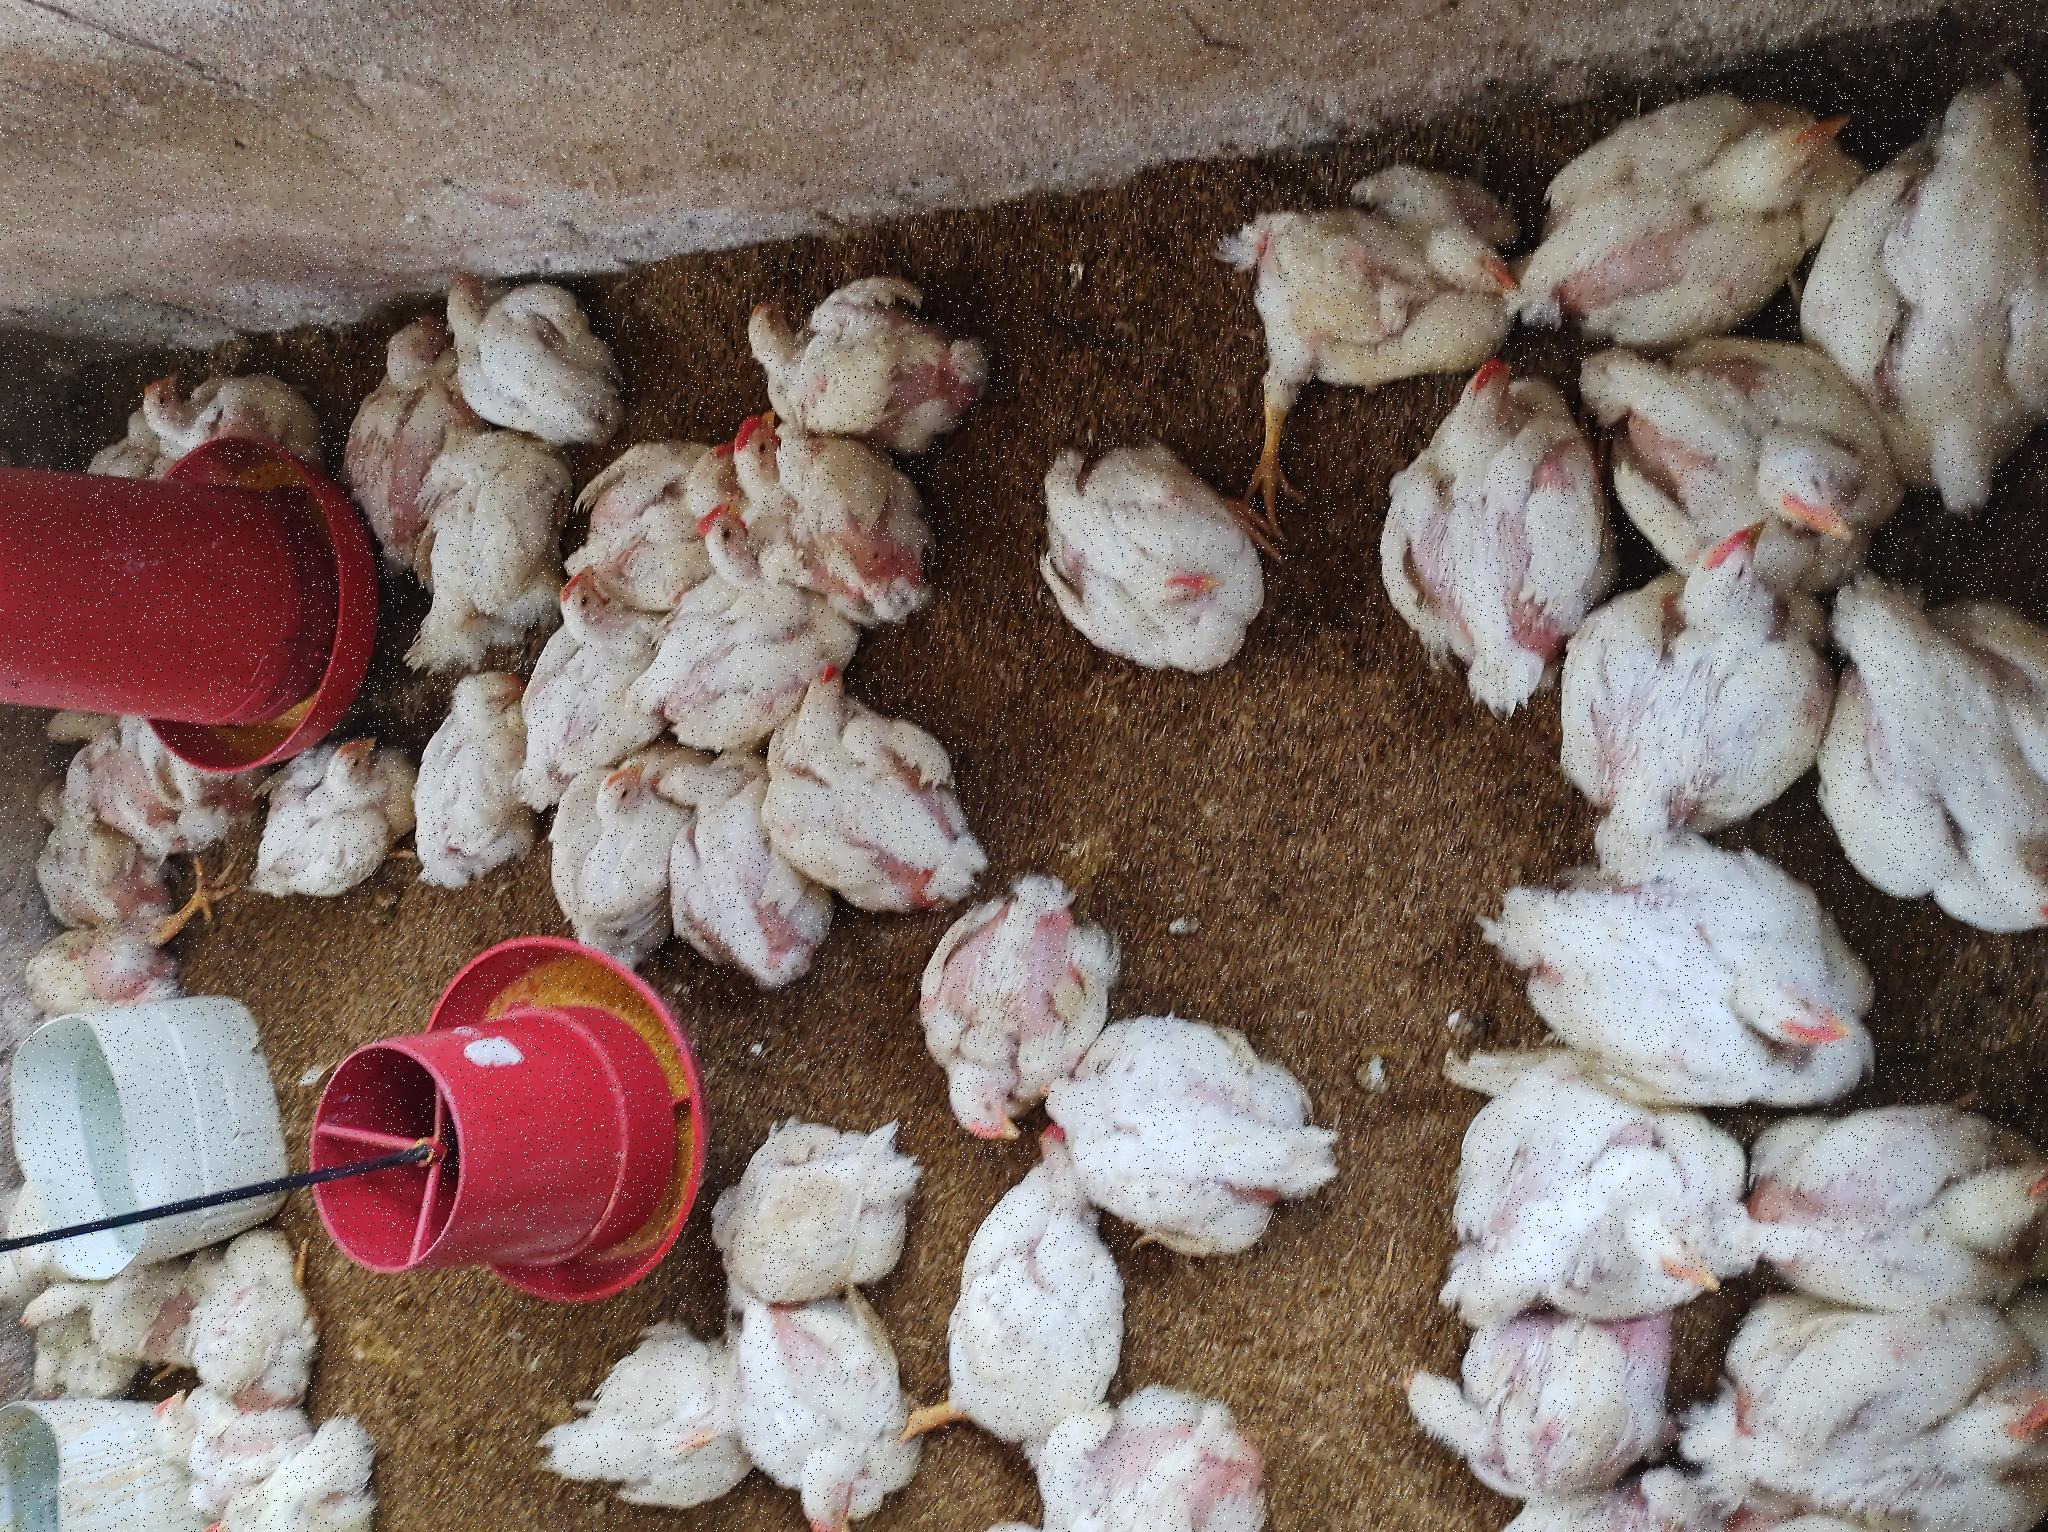Pollos: (841, 1027, 1113, 1270), (1154, 1223, 1372, 1509), (92, 917, 405, 1114), (302, 1080, 541, 1336), (829, 1361, 1170, 1532), (626, 758, 866, 985), (385, 922, 648, 1109), (2, 718, 251, 909), (227, 694, 430, 919), (1097, 747, 1271, 995), (29, 541, 216, 739), (2, 1032, 151, 1260), (880, 399, 1094, 558), (220, 1419, 521, 1532), (1092, 443, 1284, 613), (560, 650, 755, 816), (690, 40, 857, 232), (16, 1386, 224, 1532), (750, 509, 964, 644), (616, 245, 798, 402), (576, 539, 767, 668), (145, 167, 309, 317), (653, 410, 861, 520), (949, 573, 1092, 731), (1031, 332, 1224, 439), (1057, 142, 1170, 315), (2, 240, 114, 385), (526, 13, 602, 196), (610, 27, 693, 193), (919, 682, 1043, 785), (1038, 698, 1118, 795), (195, 11, 273, 109), (74, 129, 145, 229)
